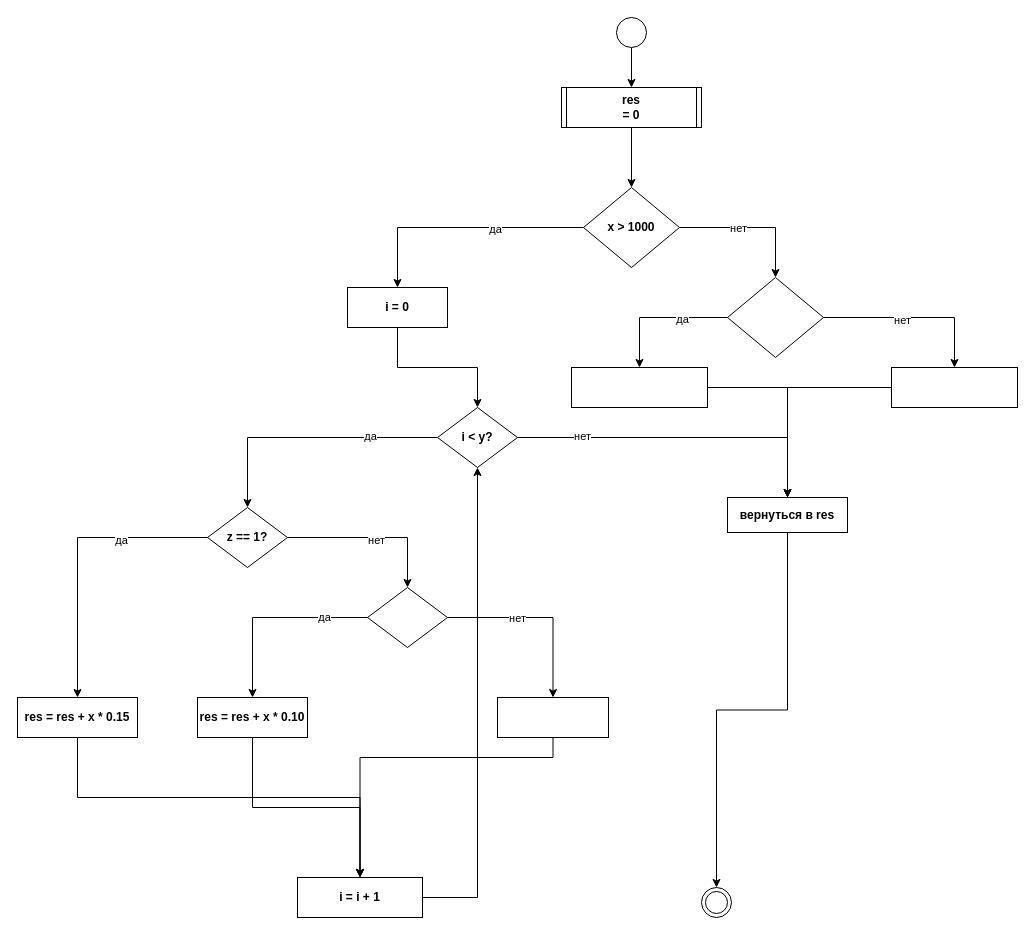
Some shapes in this 1035 by 935 pixel diagram are drawn without their labels. The box of each missing label's shape, as (x1, y1, x2, y2) in pixels:
res = res + x * 0.05: (496, 696, 608, 738)
res = x * y* 0,01: (890, 366, 1018, 408)
res = x * y* 0,02: (570, 366, 708, 408)
y > 10: (726, 276, 824, 358)
z == 2?: (366, 586, 448, 648)
